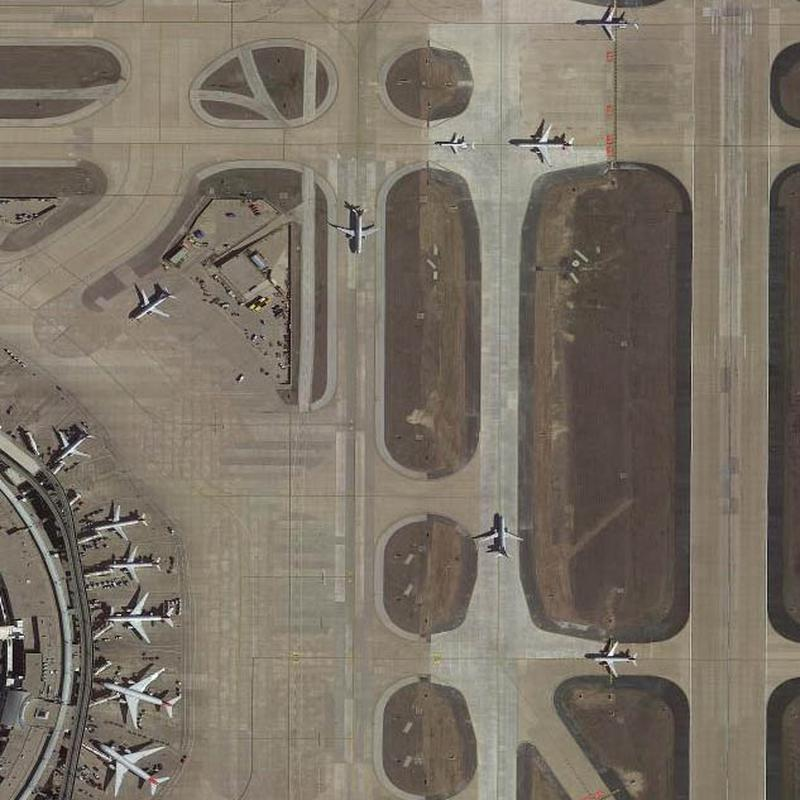airplane: (102, 670, 181, 729), (96, 741, 172, 797), (105, 594, 177, 642), (513, 124, 576, 169), (334, 206, 382, 254), (578, 5, 639, 42), (90, 503, 148, 540), (106, 546, 162, 584), (478, 514, 523, 561), (590, 638, 639, 679), (49, 426, 96, 465), (134, 286, 179, 320), (436, 133, 476, 158)
